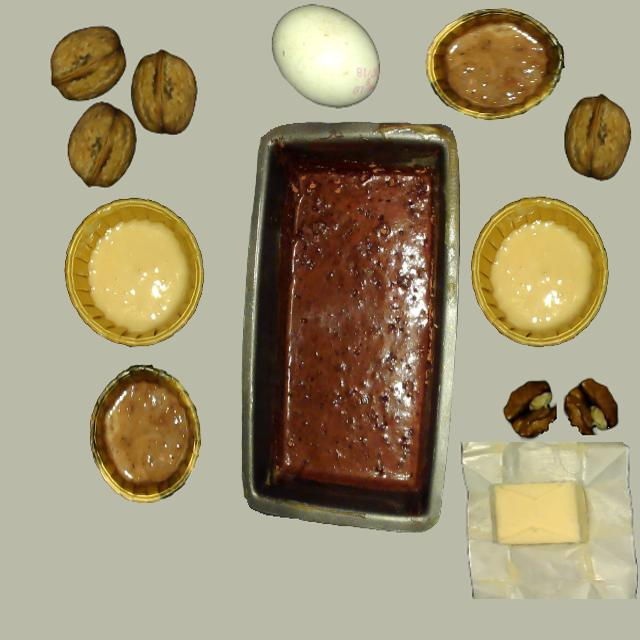Walnut: (67, 102, 135, 187), (50, 26, 126, 101), (564, 95, 630, 179), (132, 50, 196, 134)
